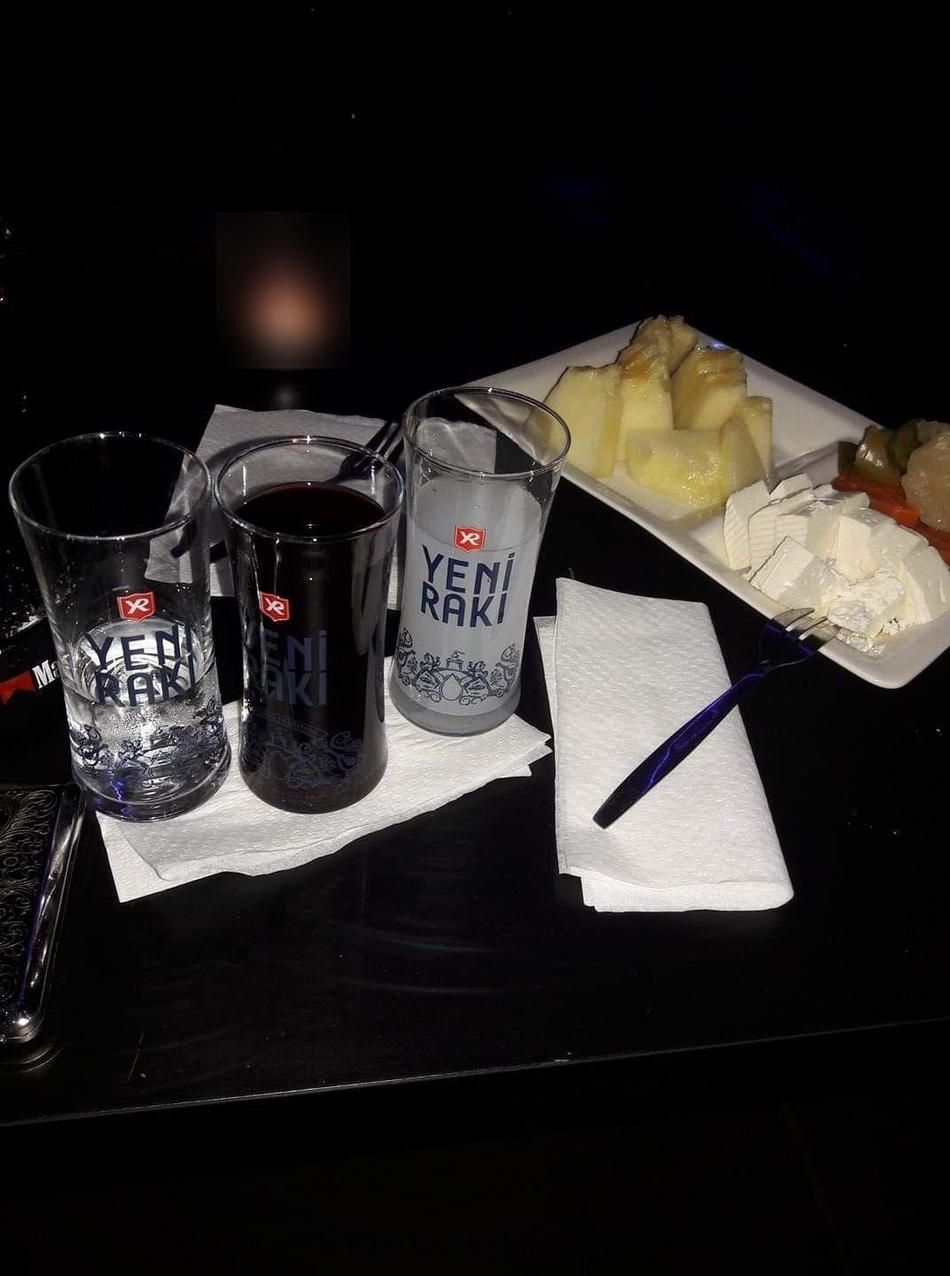glass-normal: (8, 426, 232, 820), (210, 432, 406, 813), (393, 381, 572, 735)
